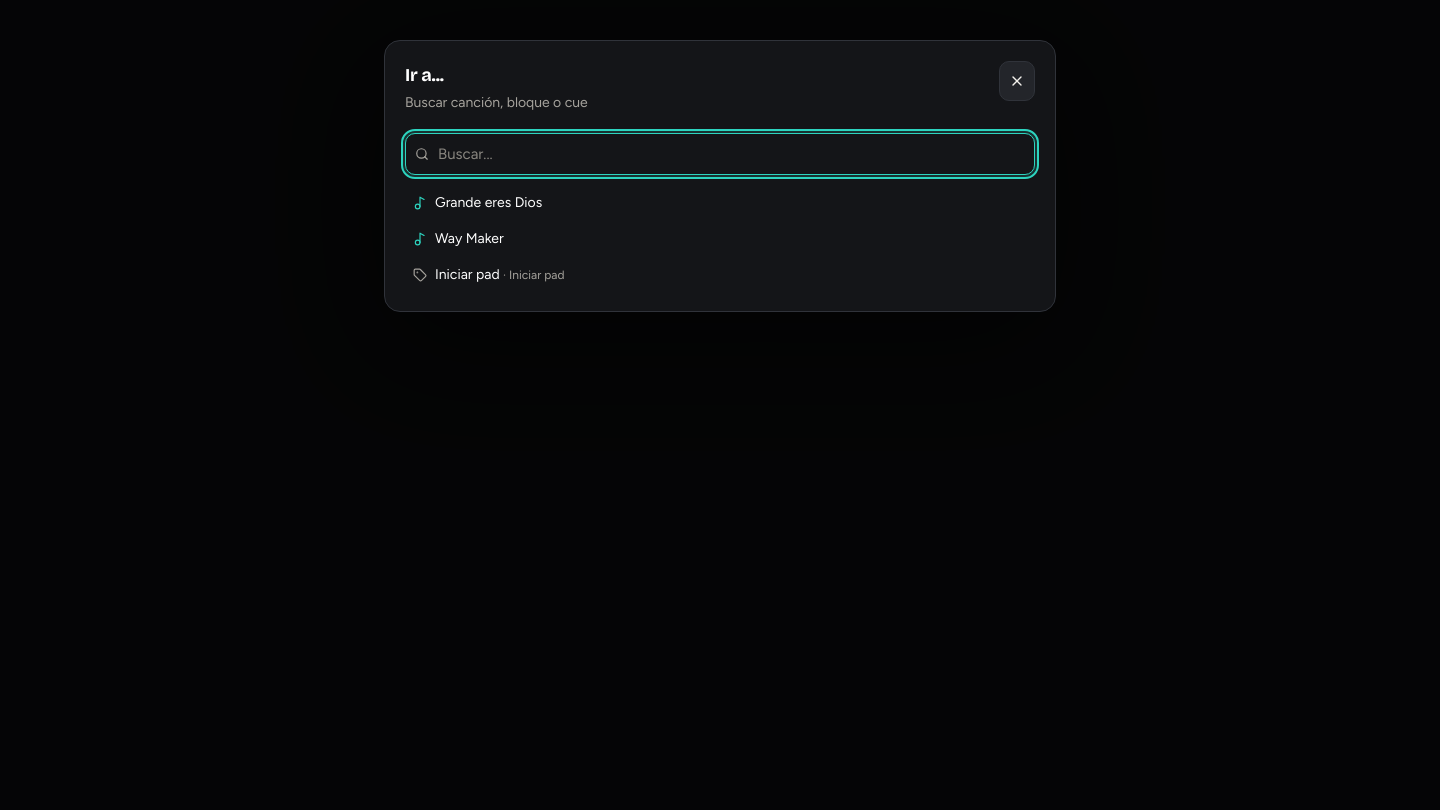
Test case: QuickJumpDialog › sin resultados muestra un mensaje
This screenshot has width=1440, height=810.
Type "zzz-no-match" into the field with placeholder "Buscar..." at [720, 154], box [405, 133, 1035, 175]
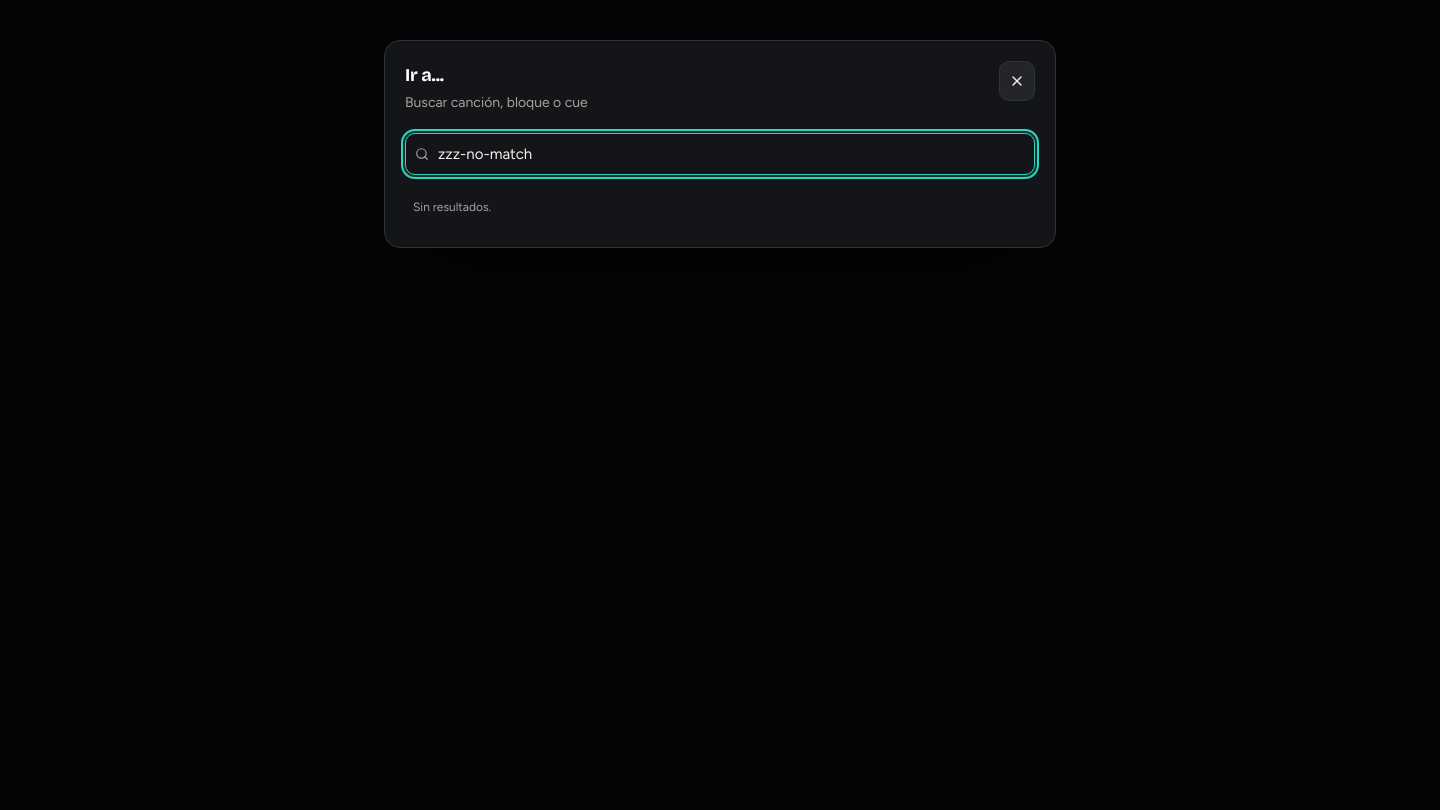
Expected: the text "Sin resultados." is shown, [413, 200, 491, 214]
